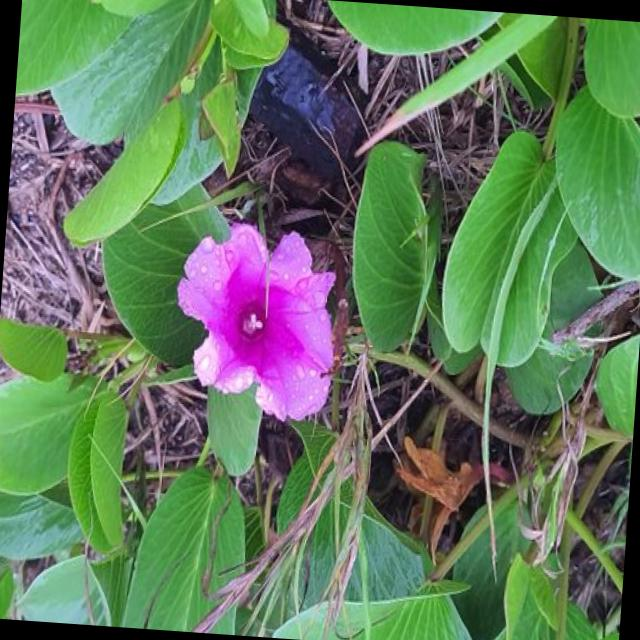ipomoea: (166, 213, 349, 428)
